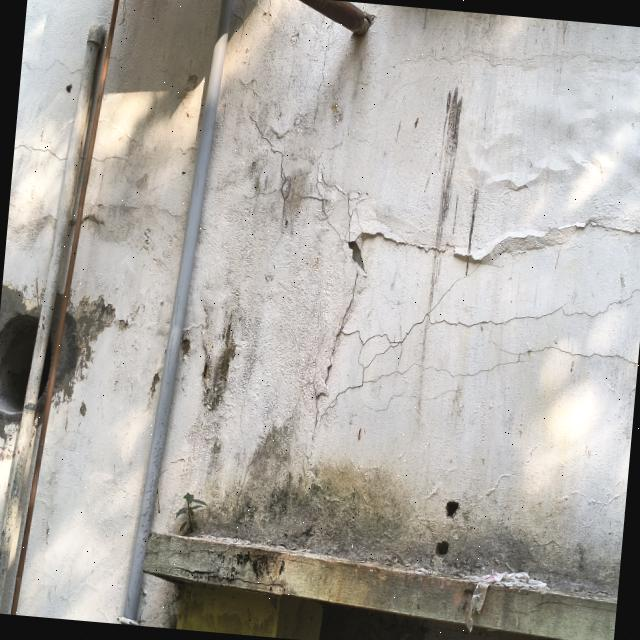Crack: (342, 315, 538, 354)
Paint Peeling: (301, 153, 640, 425)
pollution -moisture induced blackening: (165, 428, 625, 596), (143, 532, 617, 640), (202, 311, 235, 410)
